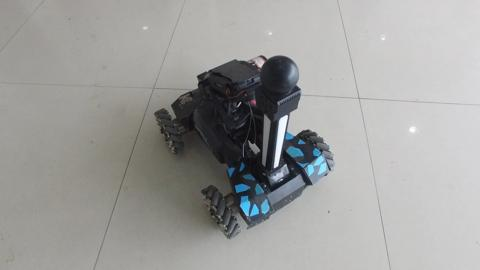chariot: (137, 52, 331, 241)
